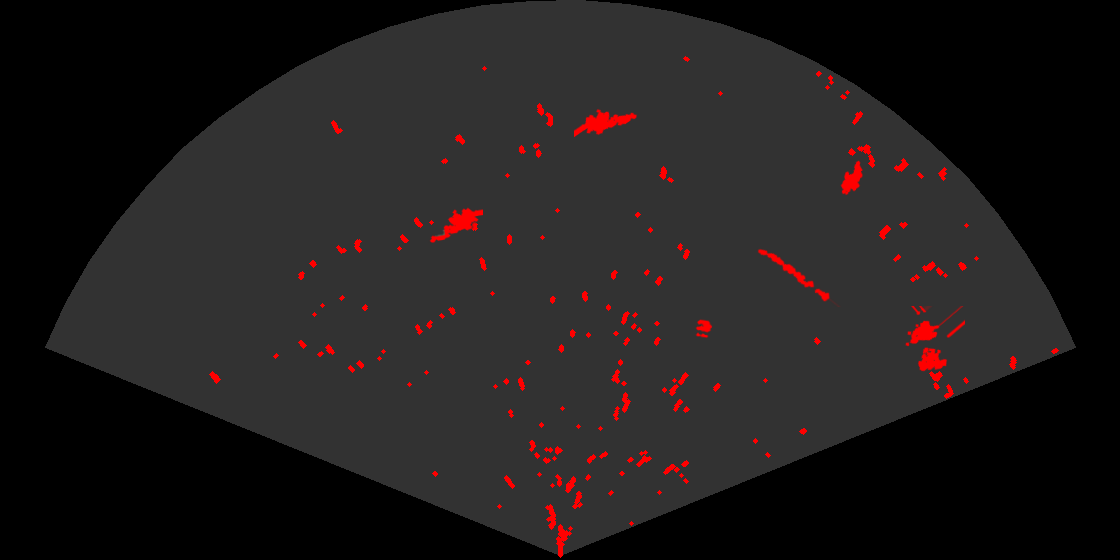AUV: (839, 159, 865, 197)
ball: (694, 318, 714, 340)
cage: (904, 306, 965, 373)
chain: (756, 247, 841, 307)
frogman: (428, 206, 483, 244), (574, 107, 639, 139)
